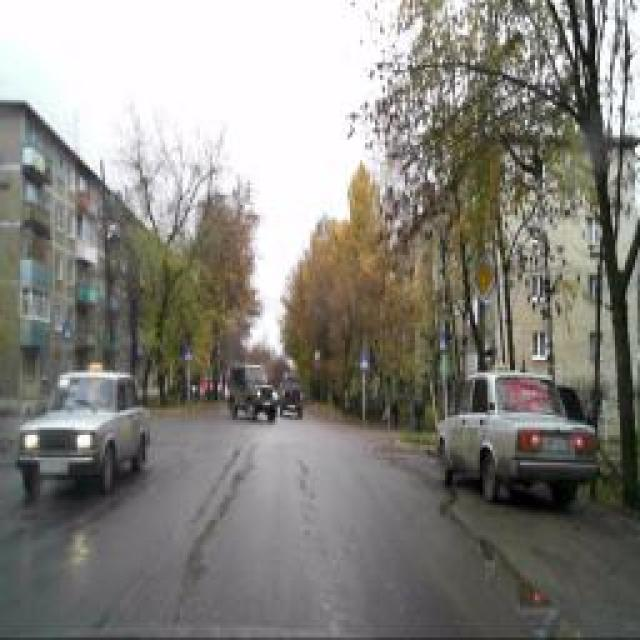sign: (468, 252, 498, 306)
